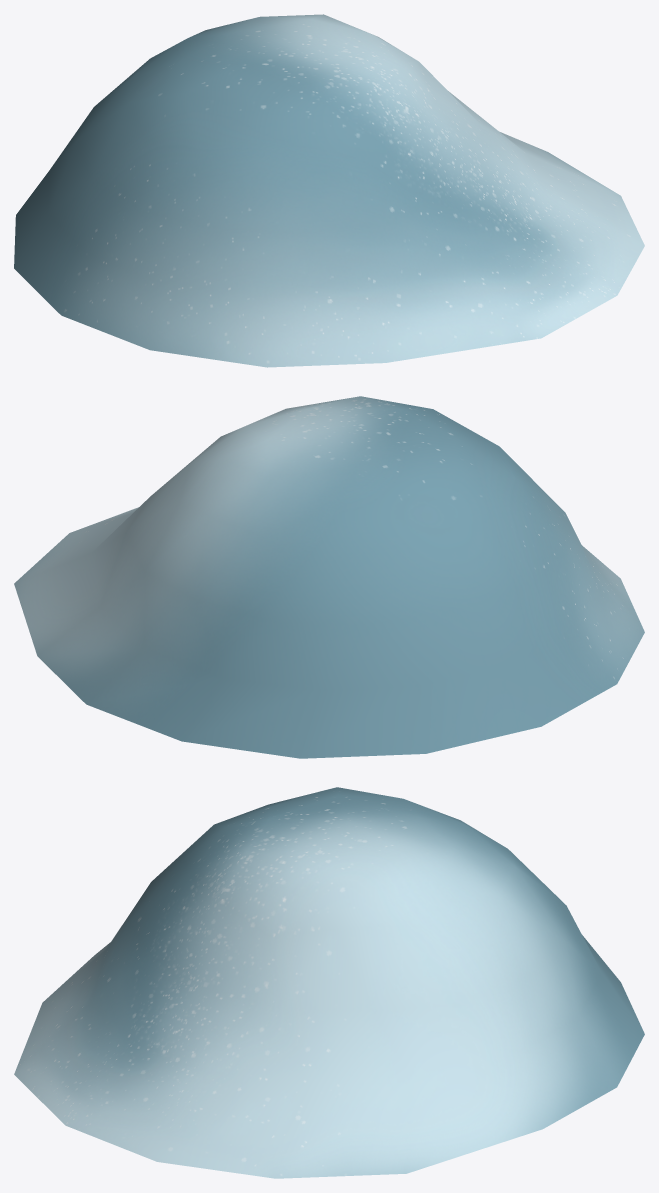
The model's file is snow_lump.FBX.
3 views of the same model, one above another, from view 1: azimuth 30°, elevation 25°; view 2: azimuth 150°, elevation 25°; view 3: azimuth 270°, elevation 25° (orthographic). The views are drawn at different scales.
Visible parts, largest first — view 1: snow_lump_01; view 2: snow_lump_01; view 3: snow_lump_01.
Part boxes in pixels (x1,y1,x2,y2): snow_lump_01: (14, 14, 644, 367); snow_lump_01: (14, 396, 644, 758); snow_lump_01: (14, 787, 644, 1178).
Bounding box in the file's own units: 59.2 × 20.57 × 57.48.
Materials: 1 (1 with a texture image).
